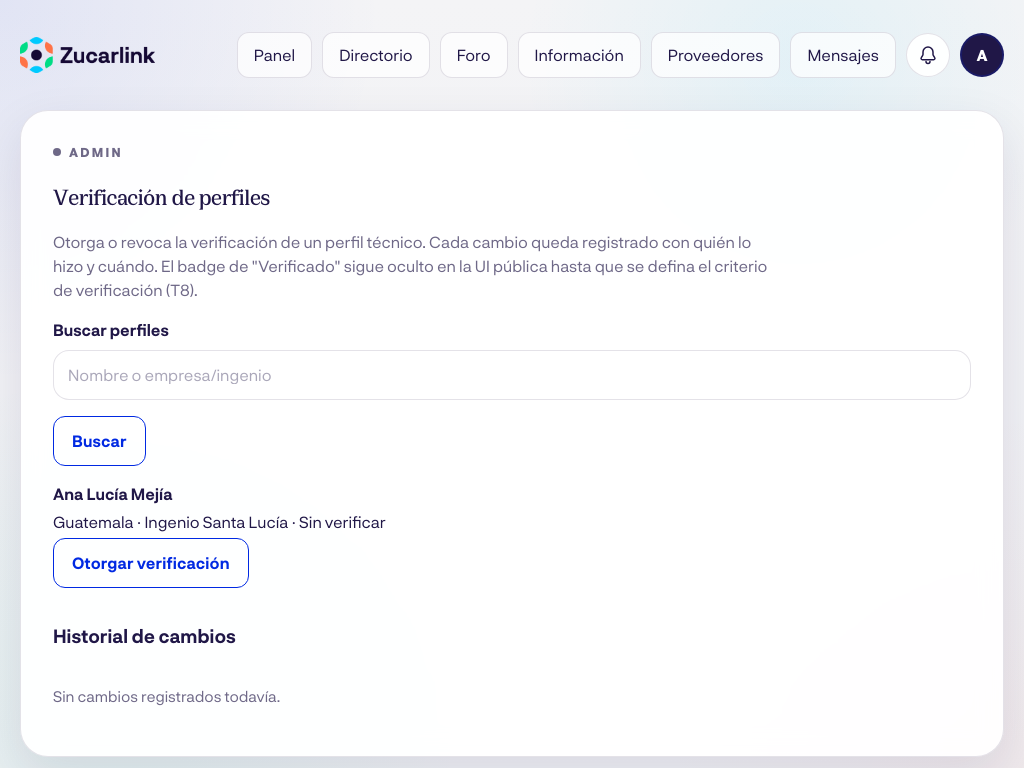
Test case: lets an admin search profiles, grant verification, and see it logged
The width and height of the screenshot is (1024, 768).
Expected: the heading "Verificación de perfiles" is shown, 53,181 -> 270,210
Expected: the text "Ana Lucía Mejía" is shown, 53,484 -> 172,503
Click the button "Otorgar verificación".
click(151, 563)  # box 53,538 -> 249,588
(page scrolled)
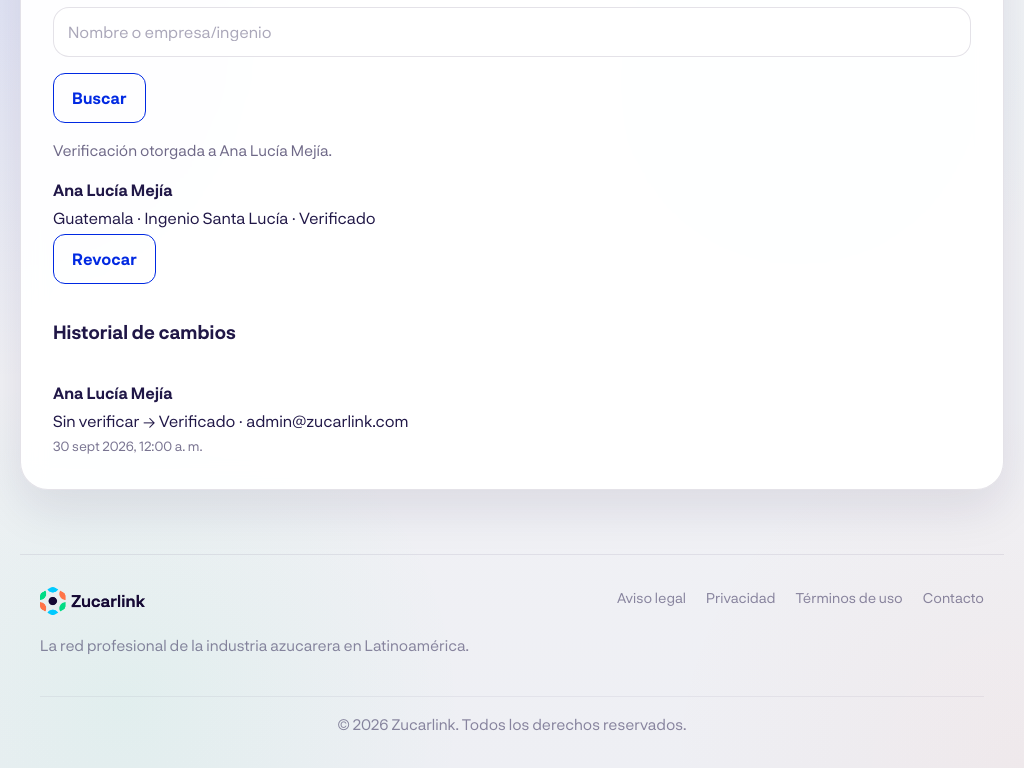
Now the text "Verificación otorgada a Ana Lucía Mejía." is shown, box 53,141 -> 332,159
Now the button "Revocar" is shown, box 53,234 -> 156,284
Now the text "Sin verificar → Verificado · admin@zucarlink.com" is shown, box 53,411 -> 408,430
